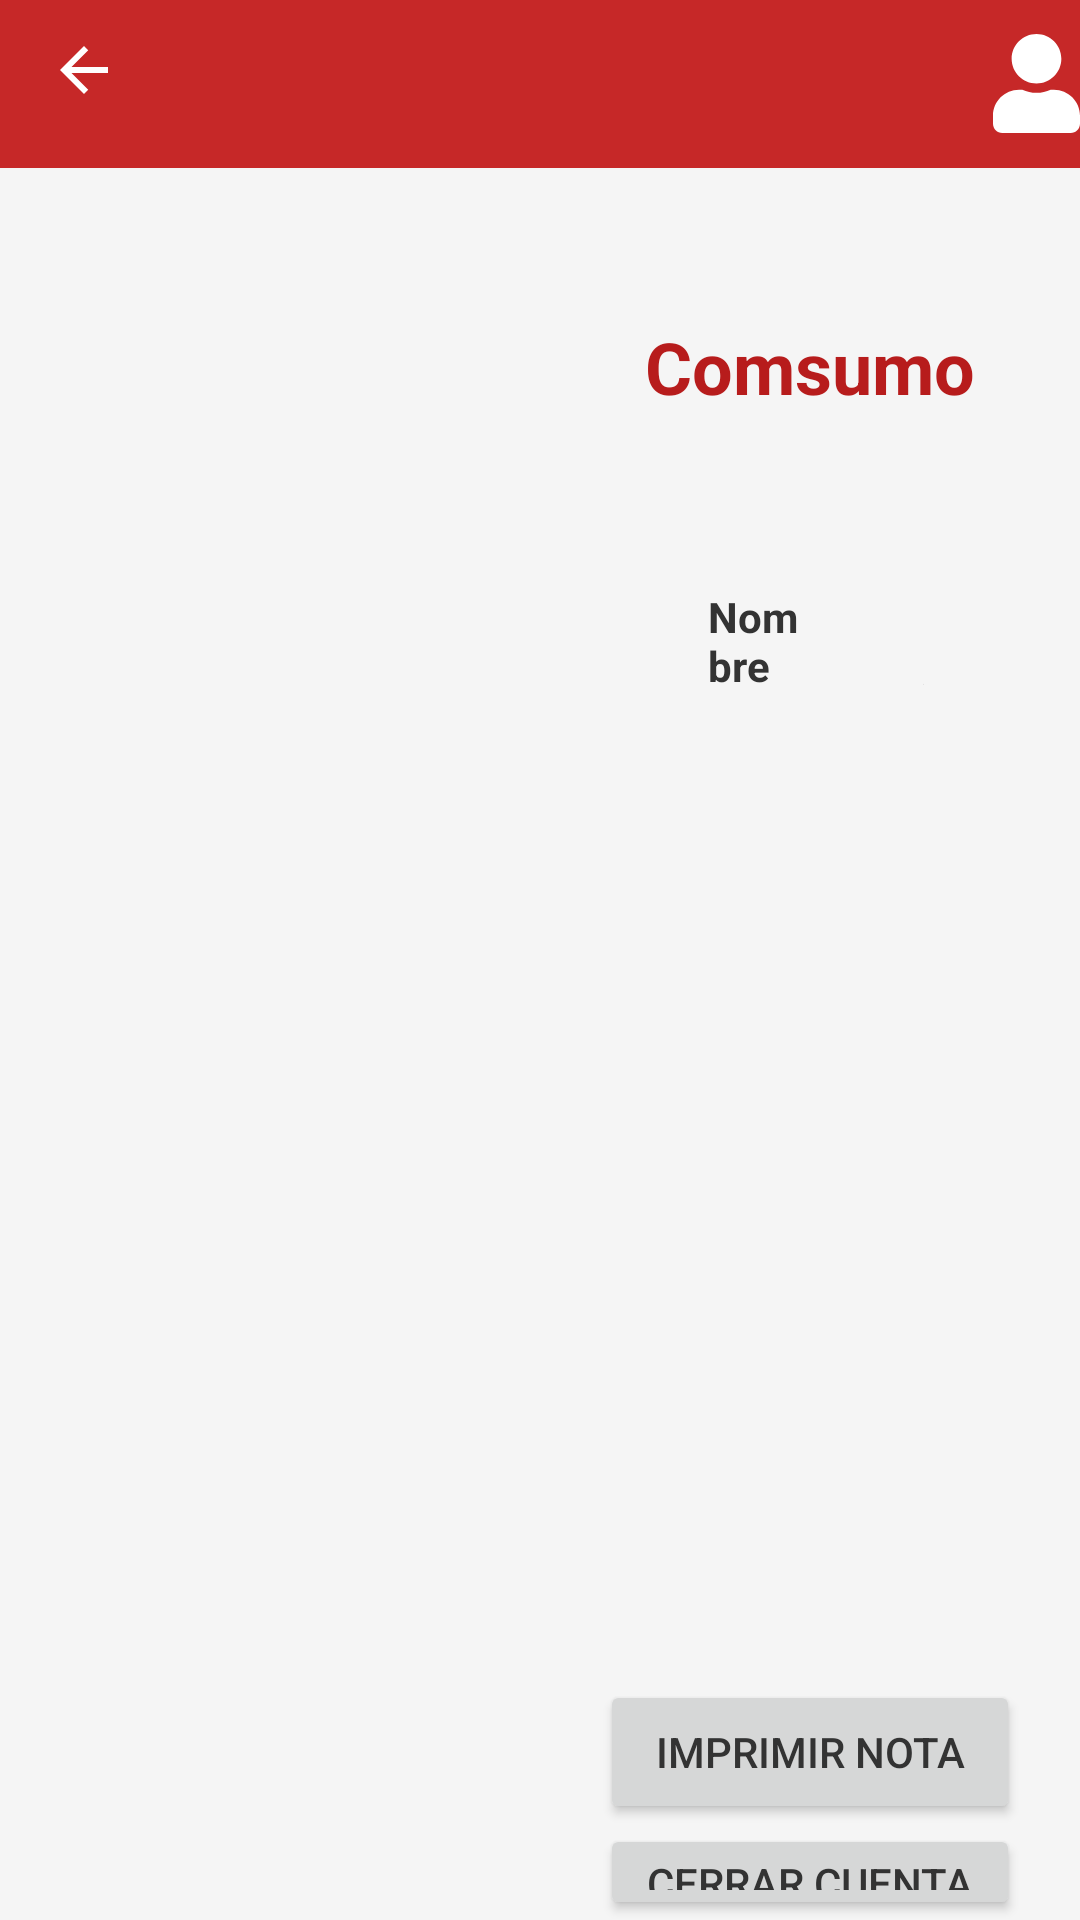

Where to tap for icons on this 1080*1920 app screen, as (x,y):
arrow back: (84,70)
user: (1036,83)
